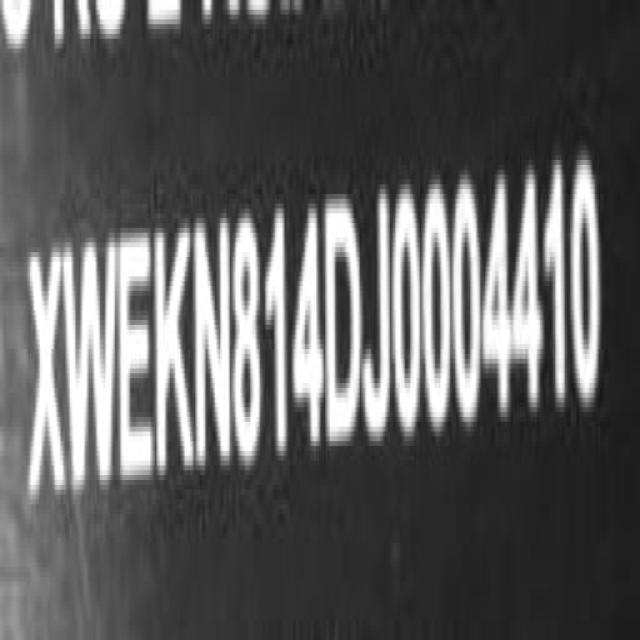0: (569, 151, 601, 413), (422, 171, 453, 440), (453, 167, 484, 435), (395, 185, 425, 445)
1: (266, 204, 291, 472), (546, 148, 570, 424)
4: (294, 196, 326, 466), (482, 165, 513, 430), (513, 158, 543, 425)
8: (232, 208, 260, 478)
D: (325, 188, 363, 460)
E: (119, 226, 159, 493)
J: (364, 180, 393, 452)
K: (152, 226, 196, 476)
N: (194, 207, 234, 481)
W: (67, 225, 120, 503)
X: (29, 241, 68, 519)
